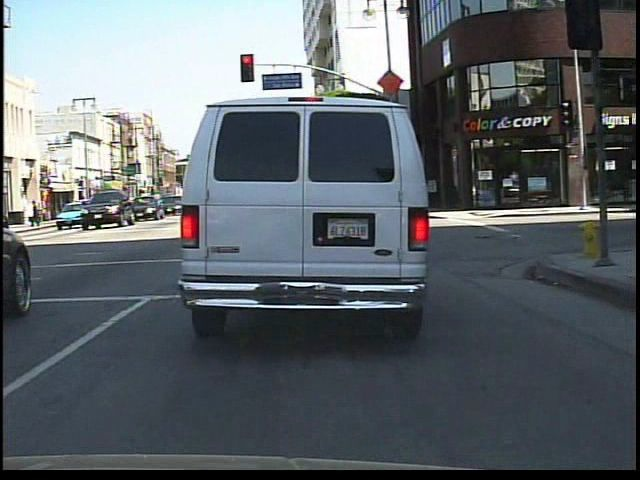person: (29, 197, 43, 229)
